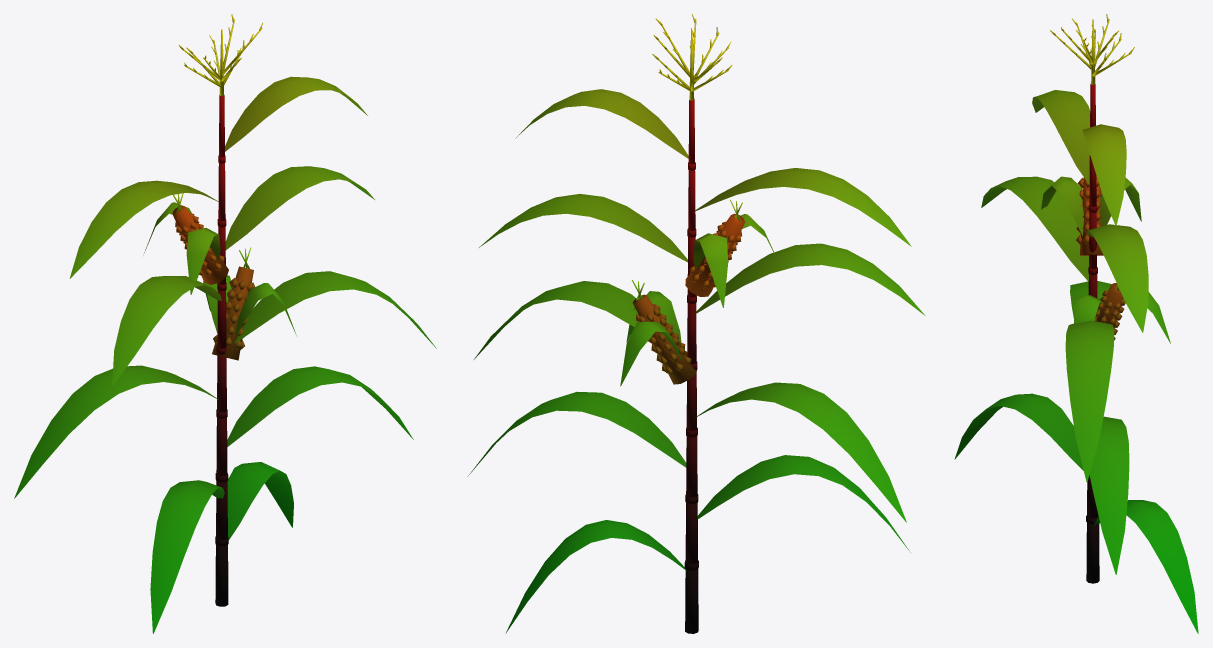
File: SM_CornA.fbx
3 renders of one model, left to right at view 1: azimuth 30°, elevation 25°; view 2: azimuth 150°, elevation 25°; view 3: azimuth 270°, elevation 25°, orthographic. The views are drawn at different scales.
Parts seen in each view (by area): view 1: SM_CornA; view 2: SM_CornA; view 3: SM_CornA.
Part boxes in pixels (left/top/right/bottom): SM_CornA: left=14, top=14, right=436, bottom=633; SM_CornA: left=467, top=14, right=925, bottom=633; SM_CornA: left=954, top=14, right=1198, bottom=633.
Size of the model in its own units: 179 by 92.68 by 235.
